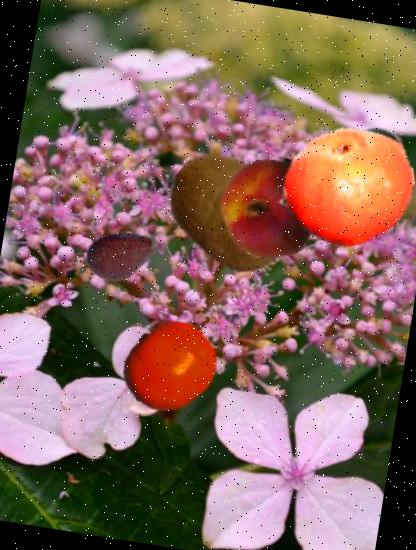Clementine: (267, 108, 416, 266), (115, 312, 225, 422)
Eggplant: (309, 115, 416, 226)
Kiwi: (155, 136, 308, 288)
Nectarine: (211, 148, 329, 266)
Salak: (80, 212, 168, 301)
